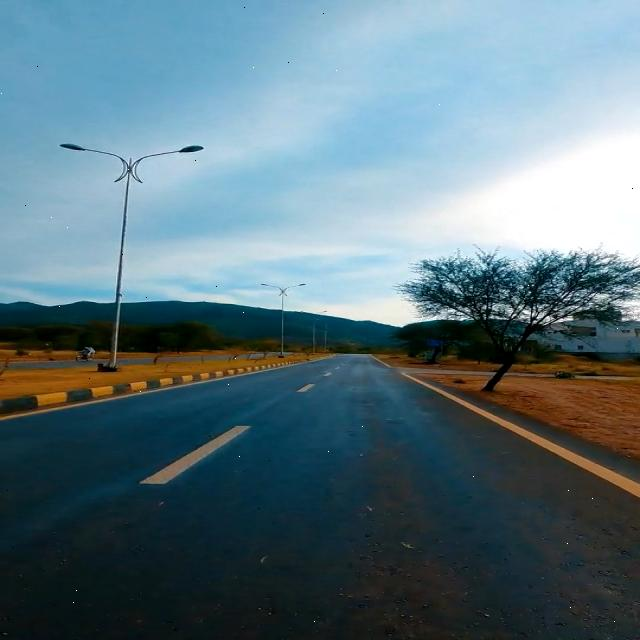lane: (403, 373, 640, 497), (140, 426, 251, 484), (298, 384, 313, 392)
road: (2, 355, 638, 639)
